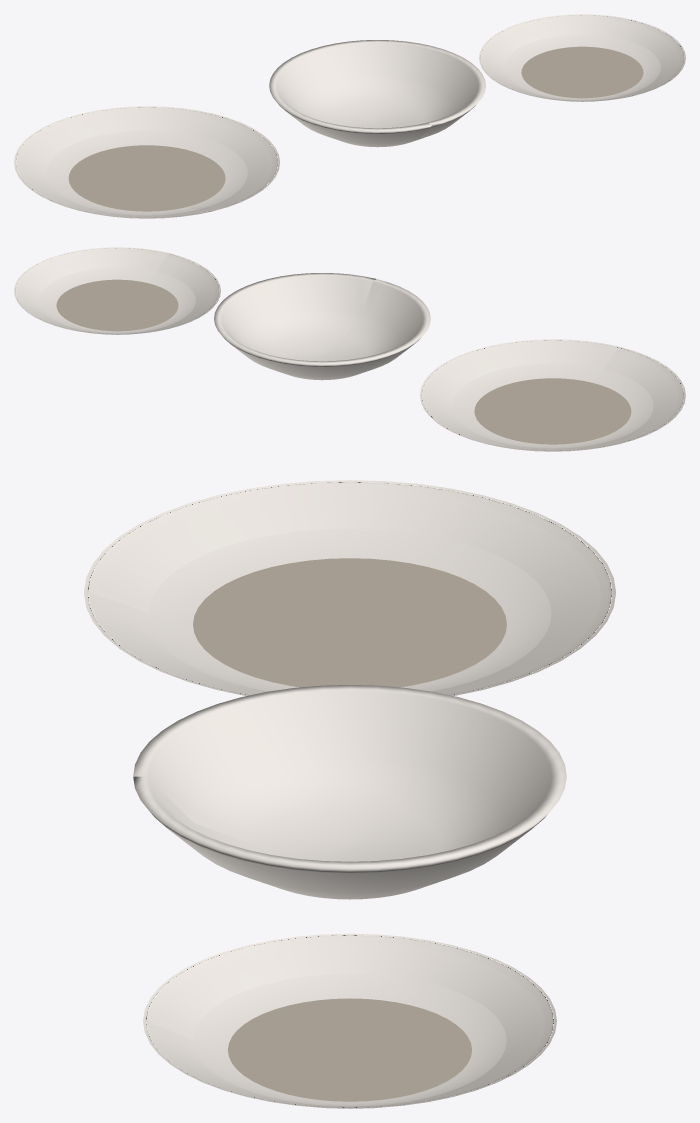
Rendered from HOJ-04.glb.
3 renders of one model, top to bottom at view 1: azimuth 30°, elevation 25°; view 2: azimuth 150°, elevation 25°; view 3: azimuth 270°, elevation 25°, orthographic. The views are drawn at different scales.
Bounding box in the file's own units: 0.75 × 0.045 × 0.27.
